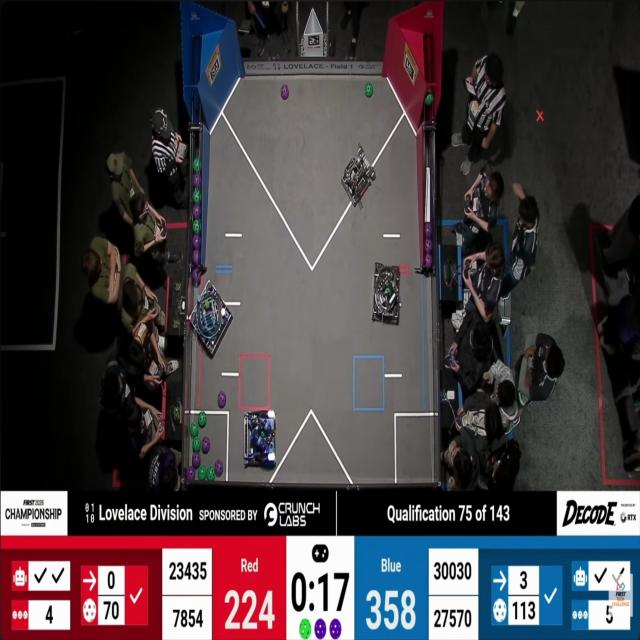artifact_green: (299, 619, 311, 639), (192, 437, 201, 453), (192, 157, 201, 173), (425, 91, 434, 106), (199, 411, 207, 427), (206, 467, 215, 481), (193, 189, 201, 204), (365, 83, 373, 98), (193, 220, 201, 234), (190, 423, 198, 437), (202, 298, 212, 309), (198, 467, 206, 480), (384, 287, 393, 297), (261, 432, 266, 437)
artifact_purple: (330, 619, 341, 639), (315, 619, 326, 639), (192, 249, 201, 266), (186, 467, 196, 482), (192, 269, 200, 287), (215, 459, 223, 477), (218, 392, 226, 409), (202, 437, 210, 454), (425, 254, 433, 270), (192, 453, 200, 469), (281, 85, 289, 99), (425, 223, 432, 239), (193, 173, 200, 188), (193, 205, 200, 219), (193, 235, 200, 249), (196, 271, 201, 288), (426, 240, 432, 254)
